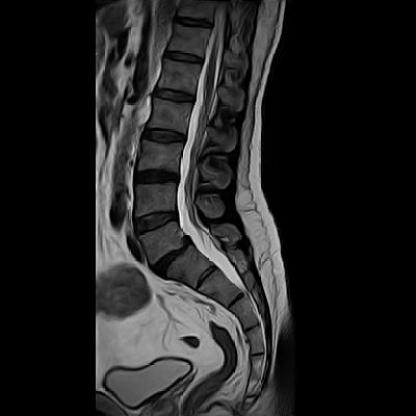Disc Bulgerotation: (147, 238, 201, 272), (132, 209, 178, 232), (133, 168, 180, 188)
